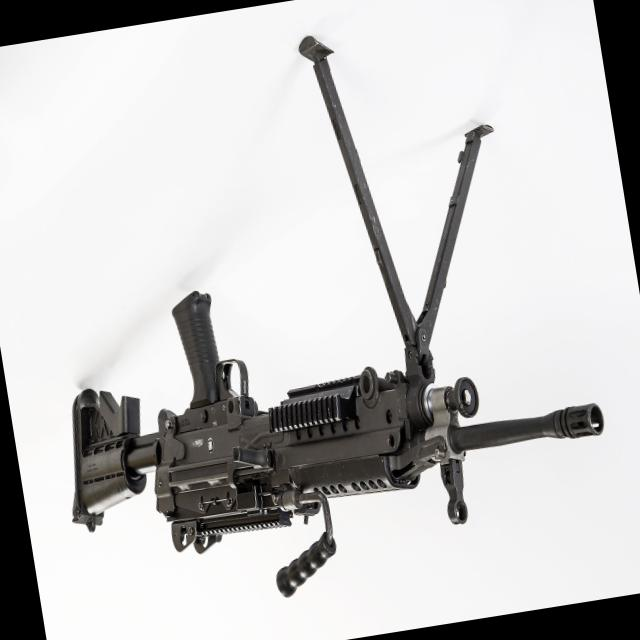Weapon: (0, 0, 635, 631)
